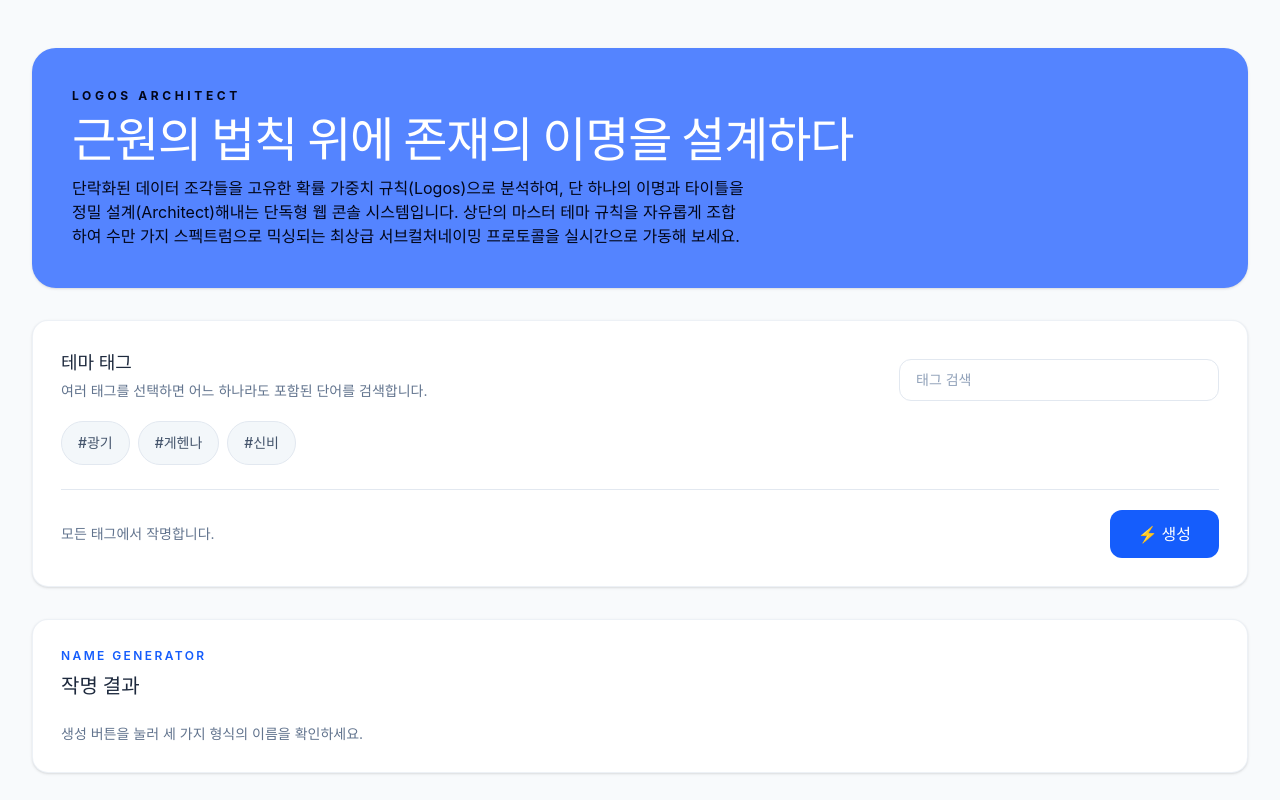
Test case: Logos Architect workspace › clears all selected tags and reloads the unfiltered dictionary
The image size is (1280, 800).
Click the button with aria-label "#게헨나 태그 선택": (178, 443) [138,421,219,465]
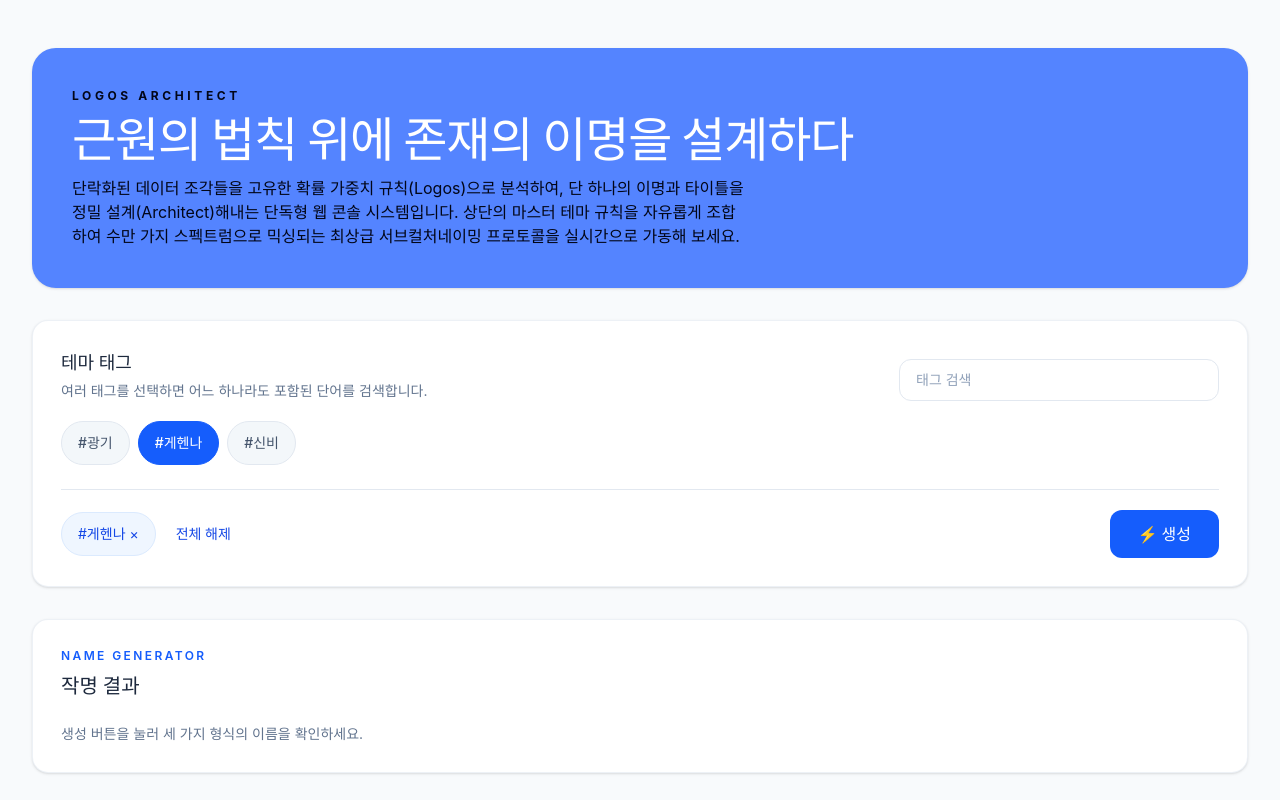
Click the button with aria-label "#신비 태그 선택": (262, 443) [227,421,296,465]
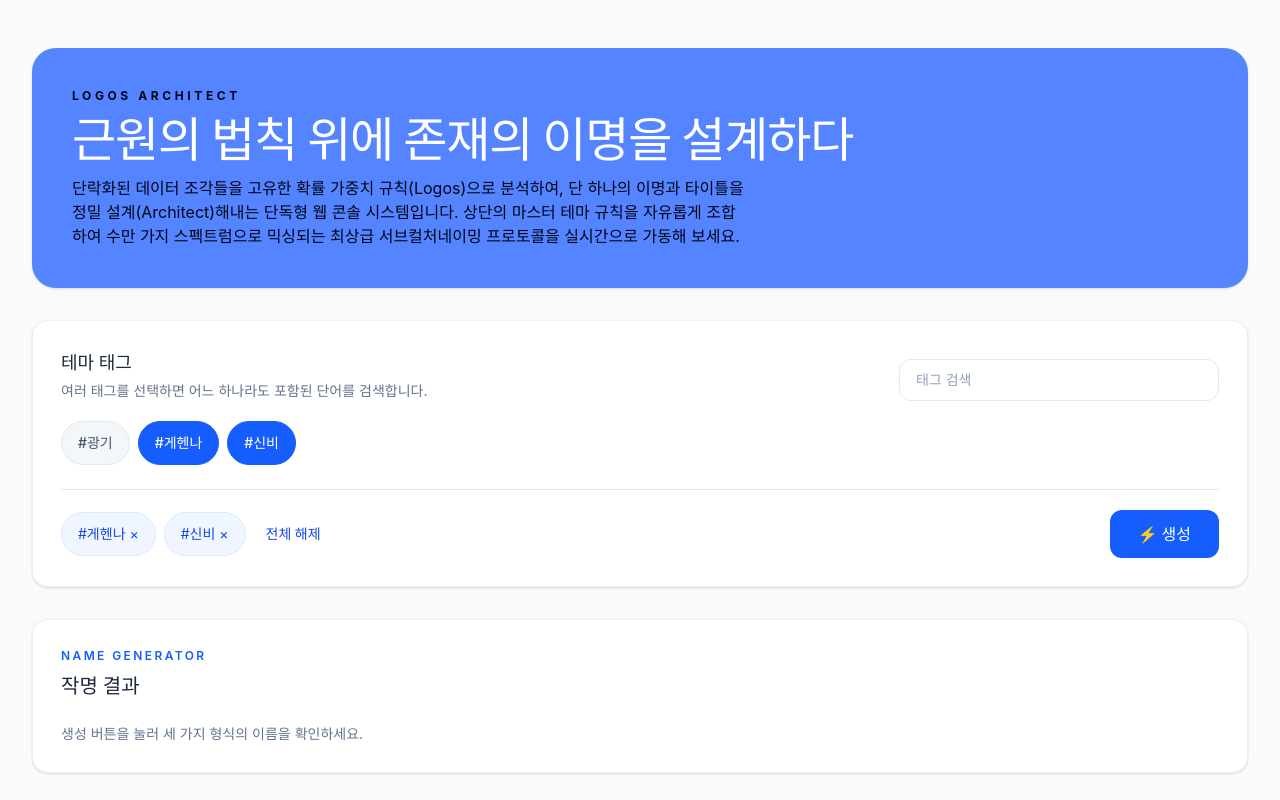
Result: the button with aria-label "#게헨나 칩 제거" is shown at [61,512,156,556]
Result: the button with aria-label "#신비 칩 제거" is shown at [164,512,246,556]
Click the button with aria-label "선택 태그 모두 해제": (293, 534) [254,512,333,556]
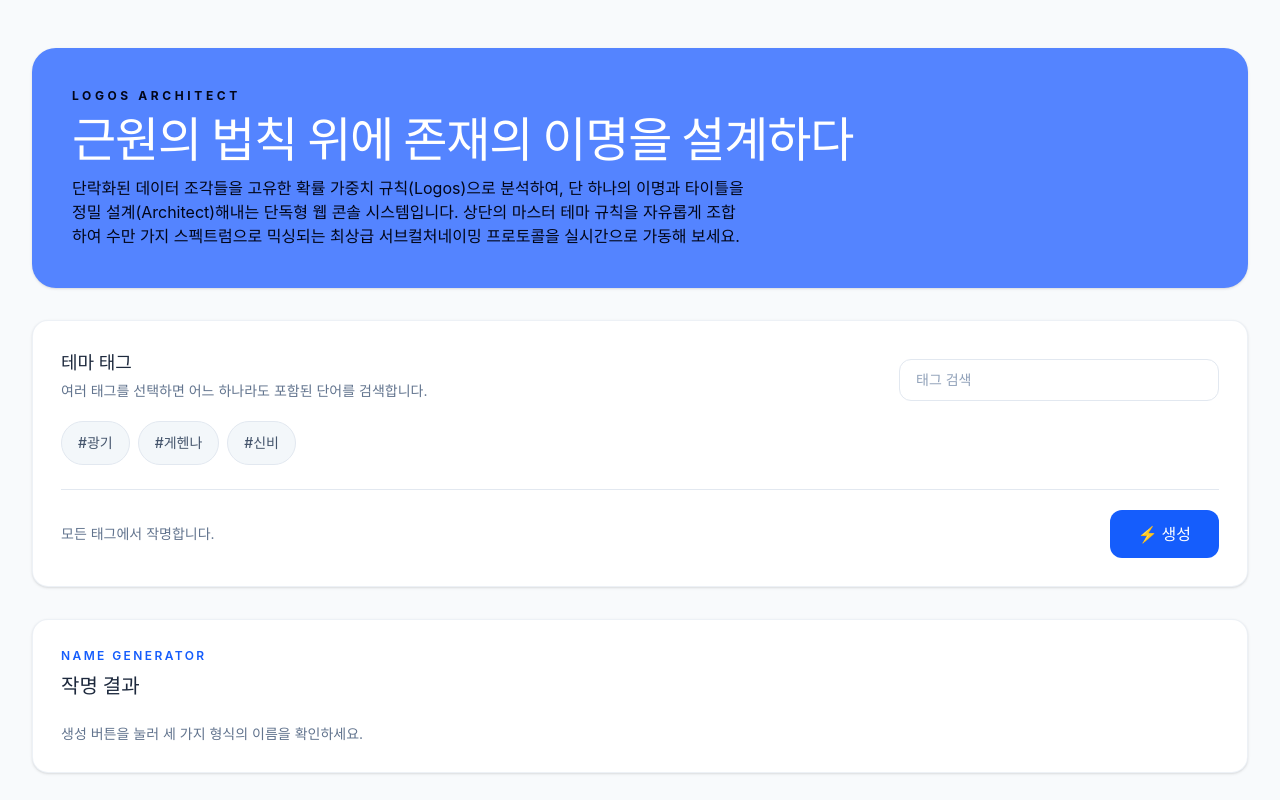
Result: the text "모든 태그에서 작명합니다." is shown at [61,524,215,544]
